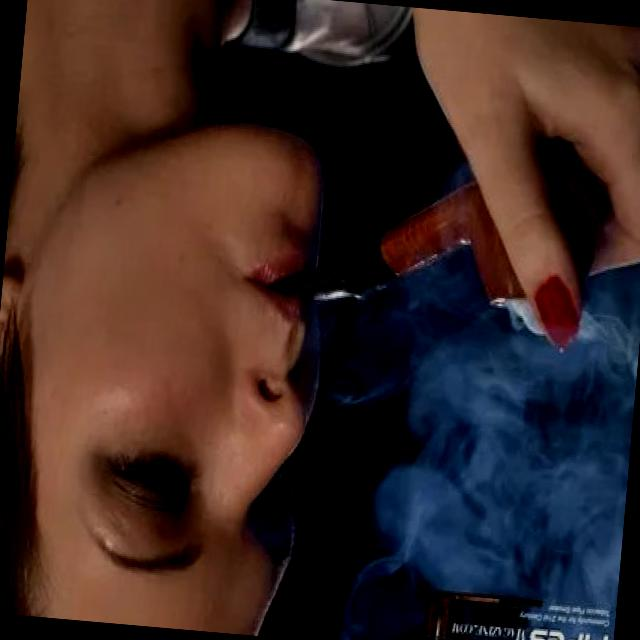cigarette: (269, 122, 605, 342)
